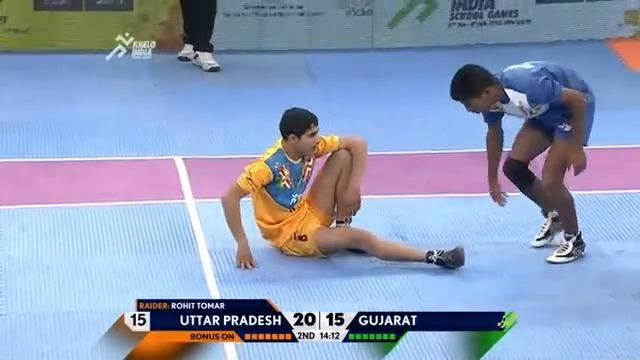Player: (449, 59, 596, 263)
Raider: (220, 106, 465, 270)
referee: (176, 0, 221, 72)
